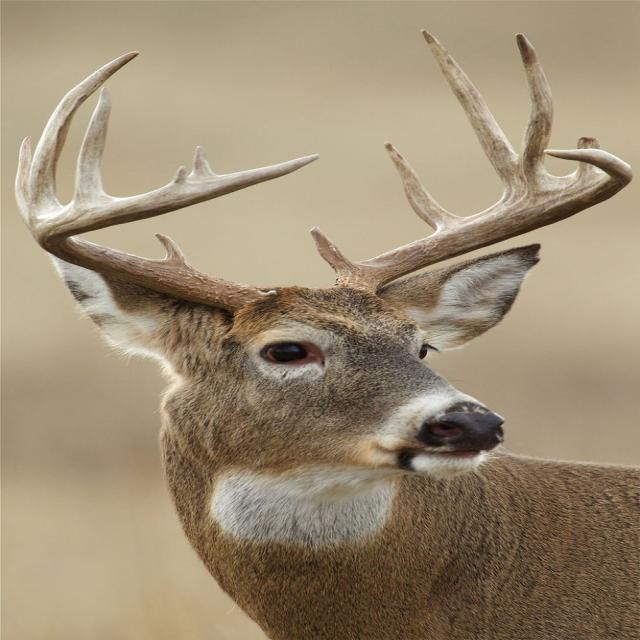E1: (171, 165, 187, 182)
L-E1: (191, 145, 216, 176)
L-F: (333, 148, 634, 294)
L-G1: (309, 225, 351, 275)
L-G2: (384, 141, 465, 232)
L-G3: (422, 28, 523, 188)
L-G4: (516, 33, 555, 175)
R-F: (30, 154, 320, 315)
R-G1: (154, 233, 193, 268)
R-G3: (27, 50, 140, 230)
R-G4: (73, 87, 111, 200)
